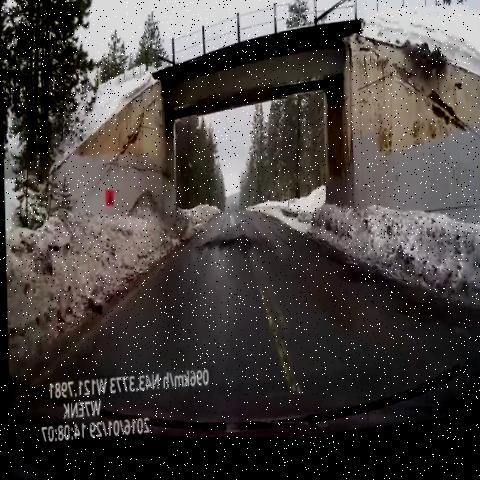pothole: (192, 226, 264, 273)
